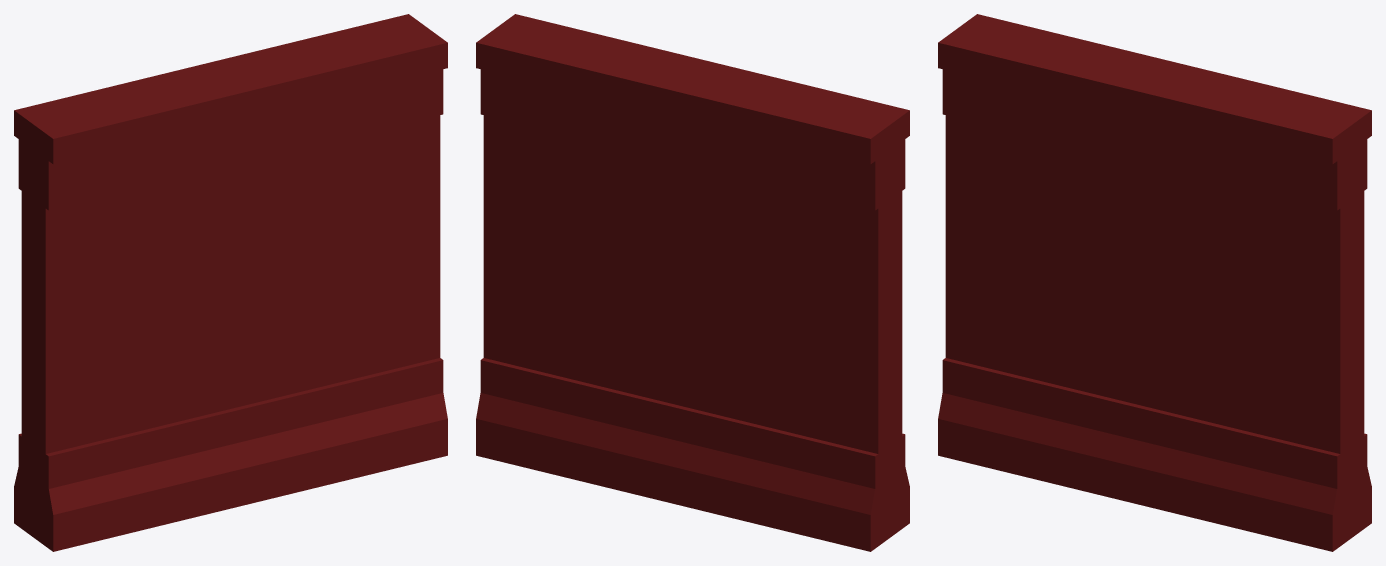
File: HellWall.fbx
3 renders of one model, left to right at view 1: azimuth 30°, elevation 25°; view 2: azimuth 150°, elevation 25°; view 3: azimuth 330°, elevation 25°, orthographic.
Parts seen in each view (by area): view 1: Cube.021; view 2: Cube.021; view 3: Cube.021.
Boxes of the visible parts, <box> form: Cube.021: <box>14,14,447,551</box>; Cube.021: <box>476,14,909,551</box>; Cube.021: <box>938,14,1371,551</box>.
Bounding box in the file's own units: 400 × 400 × 68.79.
